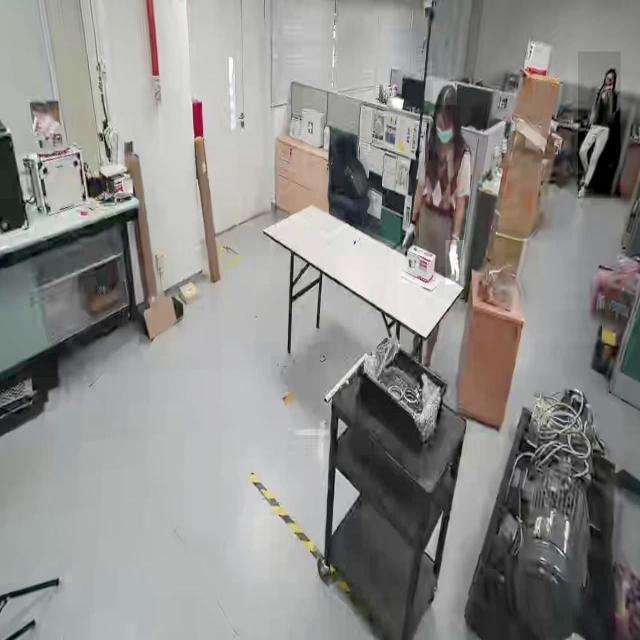gloves: (445, 240, 465, 286), (400, 212, 420, 250)
